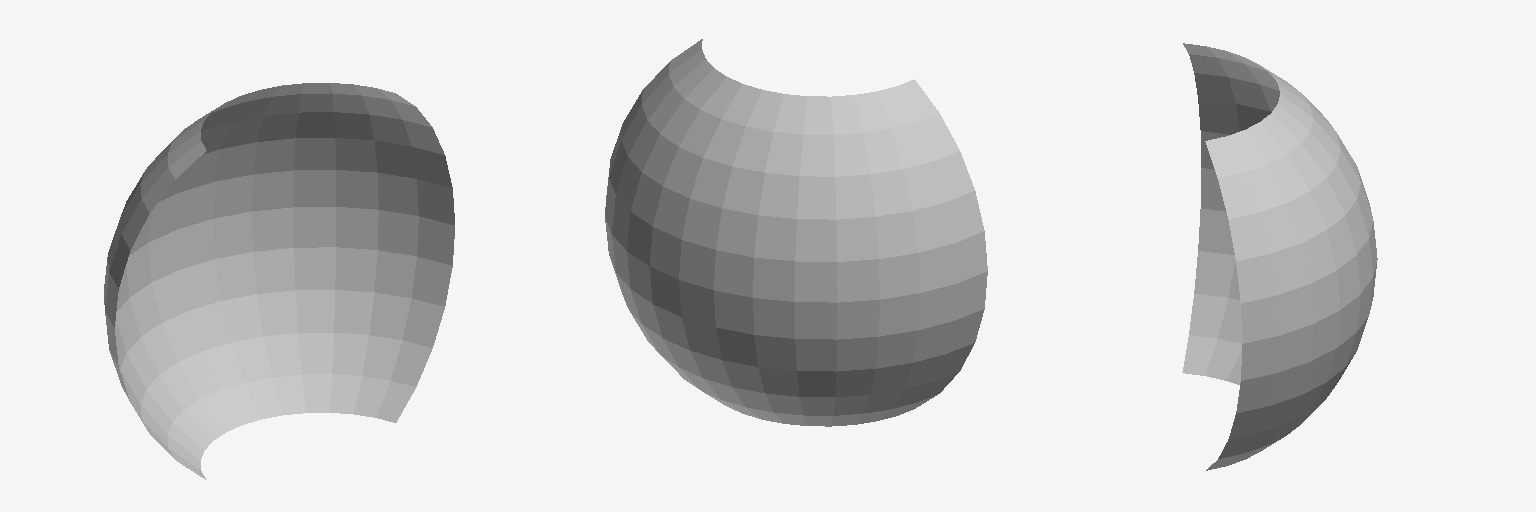
File: curvedplane.obj
The picture shows the model from 3 angles: view 1: azimuth 30°, elevation 25°; view 2: azimuth 150°, elevation 25°; view 3: azimuth 270°, elevation 25°; orthographic projection.
Visible parts, largest first — view 1: internal_curvedplane; view 2: internal_curvedplane; view 3: internal_curvedplane.
Part boxes in pixels (x1,y1,x2,y2): internal_curvedplane: (104,83,454,479); internal_curvedplane: (605,39,987,426); internal_curvedplane: (1182,43,1377,470).
Size of the model in its own units: 1.9 by 1.66 by 0.8916.